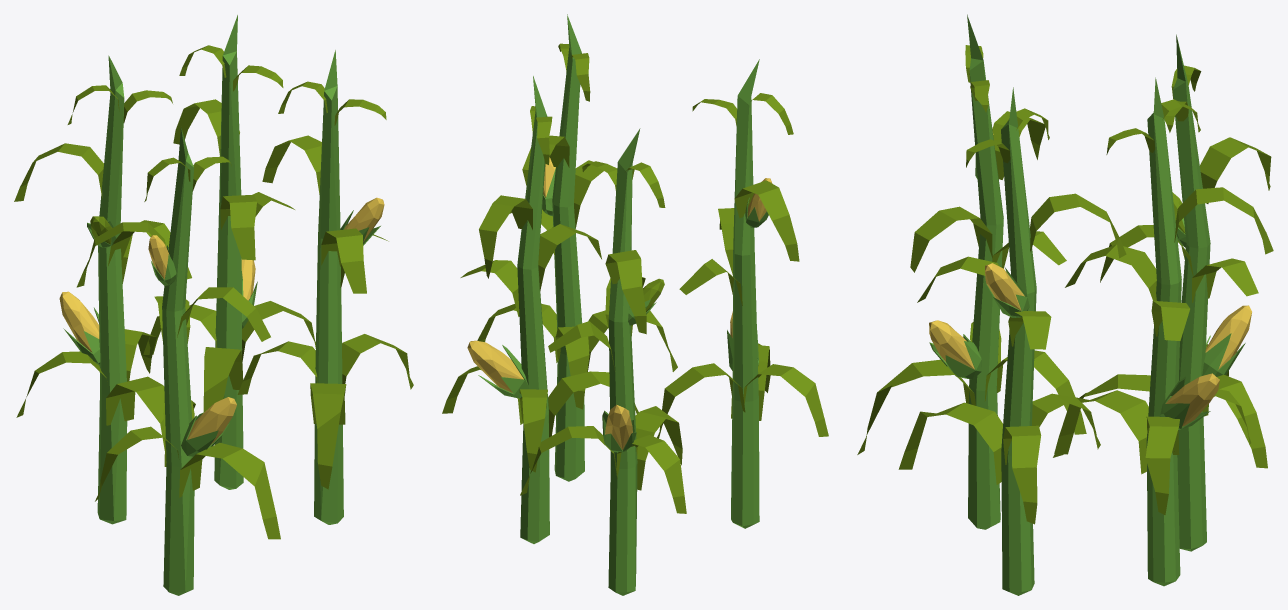
File: childcorn3.fbx
3 views of the same model, side by side, from view 1: azimuth 30°, elevation 25°; view 2: azimuth 150°, elevation 25°; view 3: azimuth 270°, elevation 25° (orthographic). The views are drawn at different scales.
Visible parts, largest first — view 1: chirldcorn3; view 2: chirldcorn3; view 3: chirldcorn3.
Part boxes in pixels (<box>): chirldcorn3: <box>14,15,413,595</box>; chirldcorn3: <box>442,14,828,595</box>; chirldcorn3: <box>857,14,1273,595</box>.
Bounding box in the file's own units: 301 × 420 × 294.
